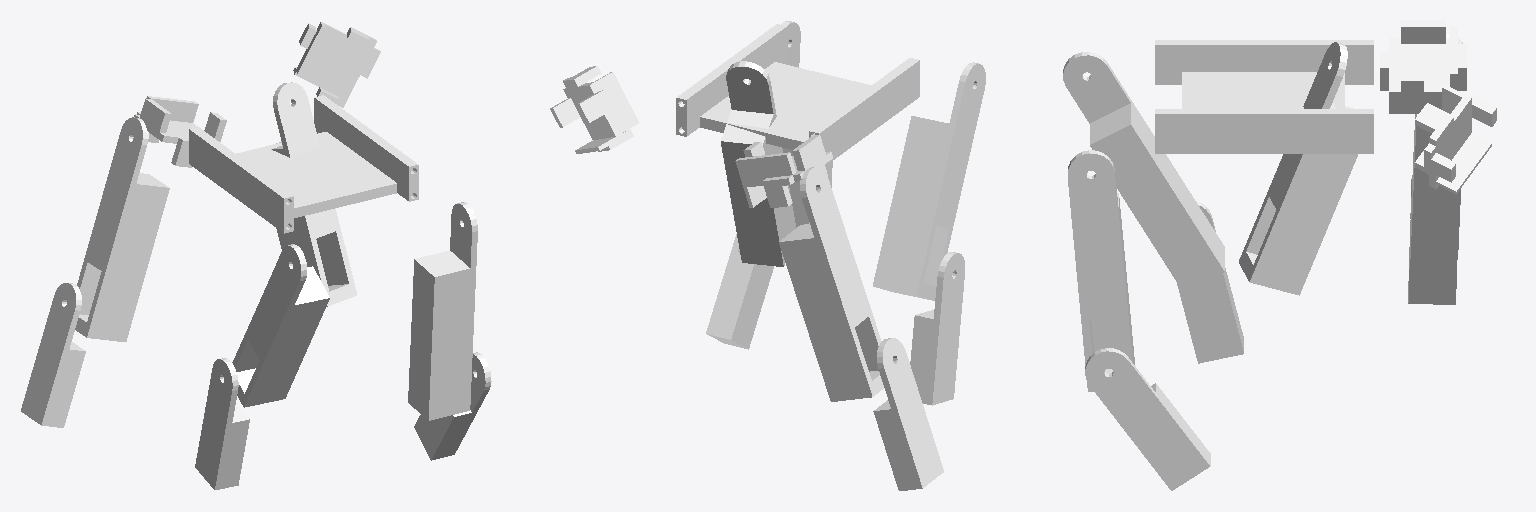
robot.urdf — chyPapa2.SLDASM:
<?xml version="1.0" encoding="utf-8"?>
<!-- This URDF was automatically created by SolidWorks to URDF Exporter! Originally created by [author] ([email redacted]) 
     Commit Version: 1.4.4-24-g24328f6  Build Version: 1.5.7084.36479
     For more information, please see http://wiki.ros.org/sw_urdf_exporter -->
<robot
  name="chyPapa2.SLDASM">
  <link
    name="Link_Body">
    <inertial>
      <origin
        xyz="0.0103110622754226 -0.138333813435703 -0.00633427200512993"
        rpy="0 0 0" />
      <mass
        value="0.140972114032924" />
      <inertia
        ixx="0.000172858210708355"
        ixy="-9.20364029032113E-08"
        ixz="-1.60625193941856E-06"
        iyy="0.000238776777529016"
        iyz="-1.46977761927673E-07"
        izz="0.000396584509314804" />
    </inertial>
    <visual>
      <origin
        xyz="0 0 0"
        rpy="0 0 0" />
      <geometry>
        <mesh
          filename="package://chyPapa2.SLDASM/meshes/Link_Body.STL" />
      </geometry>
      <material
        name="">
        <color
          rgba="1 1 1 1" />
      </material>
    </visual>
    <collision>
      <origin
        xyz="0 0 0"
        rpy="0 0 0" />
      <geometry>
        <mesh
          filename="package://chyPapa2.SLDASM/meshes/Link_Body.STL" />
      </geometry>
    </collision>
  </link>
  <link
    name="Link_Shoulder">
    <inertial>
      <origin
        xyz="-0.0274247665425242 -0.00816227985534069 0.0125762828596184"
        rpy="0 0 0" />
      <mass
        value="0.0207864363086098" />
      <inertia
        ixx="6.27146358863494E-06"
        ixy="3.91384833154347E-08"
        ixz="-1.74281855565268E-07"
        iyy="6.22523670847366E-06"
        iyz="-2.24464499683624E-07"
        izz="1.02843302670418E-05" />
    </inertial>
    <visual>
      <origin
        xyz="0 0 0"
        rpy="0 0 0" />
      <geometry>
        <mesh
          filename="package://chyPapa2.SLDASM/meshes/Link_Shoulder.STL" />
      </geometry>
      <material
        name="">
        <color
          rgba="1 1 1 1" />
      </material>
    </visual>
    <collision>
      <origin
        xyz="0 0 0"
        rpy="0 0 0" />
      <geometry>
        <mesh
          filename="package://chyPapa2.SLDASM/meshes/Link_Shoulder.STL" />
      </geometry>
    </collision>
  </link>
  <joint
    name="Joint_Shoulder_Body"
    type="continuous">
    <origin
      xyz="-0.024262490025846 -0.210974353298413 0.0042831711339558"
      rpy="-3.10892168622311 0 1.57079633049684" />
    <parent
      link="Link_Body" />
    <child
      link="Link_Shoulder" />
    <axis
      xyz="1 0 0" />
    <limit
      lower="-0.5"
      upper="1.5"
      effort="0"
      velocity="0" />
    <safety_controller
      k_velocity="0" />
  </joint>
  <link
    name="Link_Arm">
    <inertial>
      <origin
        xyz="-0.0788155464015626 -1.28029117704709E-05 -0.0177604221817193"
        rpy="0 0 0" />
      <mass
        value="0.108265195096751" />
      <inertia
        ixx="2.14056382437846E-05"
        ixy="-5.7086172295258E-08"
        ixz="8.85505589058663E-06"
        iyy="0.00016624910449164"
        iyz="-3.05257037533732E-09"
        izz="0.000163044159957564" />
    </inertial>
    <visual>
      <origin
        xyz="0 0 0"
        rpy="0 0 0" />
      <geometry>
        <mesh
          filename="package://chyPapa2.SLDASM/meshes/Link_Arm.STL" />
      </geometry>
      <material
        name="">
        <color
          rgba="1 1 1 1" />
      </material>
    </visual>
    <collision>
      <origin
        xyz="0 0 0"
        rpy="0 0 0" />
      <geometry>
        <mesh
          filename="package://chyPapa2.SLDASM/meshes/Link_Arm.STL" />
      </geometry>
    </collision>
  </link>
  <joint
    name="Joint_Arm_Shoulder"
    type="continuous">
    <origin
      xyz="-0.0390000494633864 -0.00503732057810486 0.0250000008133683"
      rpy="1.5707963267949 1.0538900560339 -3.14159265056749" />
    <parent
      link="Link_Shoulder" />
    <child
      link="Link_Arm" />
    <axis
      xyz="0 0 1" />
    <limit
      lower="-1.5"
      upper="1.5"
      effort="0"
      velocity="0" />
    <safety_controller
      k_velocity="0" />
  </joint>
  <link
    name="Link_Hand">
    <inertial>
      <origin
        xyz="0.0526382833749994 -8.32667268468867E-17 0.0110737358724704"
        rpy="0 0 0" />
      <mass
        value="0.0420735853495989" />
      <inertia
        ixx="4.63824751744345E-06"
        ixy="3.35636805349517E-20"
        ixz="1.99944788512828E-06"
        iyy="2.67304876167846E-05"
        iyz="-4.32045451522672E-21"
        izz="2.83575795096437E-05" />
    </inertial>
    <visual>
      <origin
        xyz="0 0 0"
        rpy="0 0 0" />
      <geometry>
        <mesh
          filename="package://chyPapa2.SLDASM/meshes/Link_Hand.STL" />
      </geometry>
      <material
        name="">
        <color
          rgba="1 1 1 1" />
      </material>
    </visual>
    <collision>
      <origin
        xyz="0 0 0"
        rpy="0 0 0" />
      <geometry>
        <mesh
          filename="package://chyPapa2.SLDASM/meshes/Link_Hand.STL" />
      </geometry>
    </collision>
  </link>
  <joint
    name="Joint_Hand_Arm"
    type="continuous">
    <origin
      xyz="-0.13 0 -0.0319840197875134"
      rpy="3.14159265358979 0 2.85540791089326" />
    <parent
      link="Link_Arm" />
    <child
      link="Link_Hand" />
    <axis
      xyz="0 0 1" />
    <limit
      lower="-1.5"
      upper="1.5"
      effort="0"
      velocity="0" />
    <safety_controller
      k_velocity="0" />
  </joint>
  <link
    name="Link_Shoulder_lf">
    <inertial>
      <origin
        xyz="0.0297444649113038 -0.0103661778761098 0.0113168142585662"
        rpy="0 0 0" />
      <mass
        value="0.024381282517391" />
      <inertia
        ixx="6.47635682118491E-06"
        ixy="-1.7820992837587E-07"
        ixz="5.84885132806065E-07"
        iyy="6.88016866534127E-06"
        iyz="-8.48693360788404E-07"
        izz="1.06252181988618E-05" />
    </inertial>
    <visual>
      <origin
        xyz="0 0 0"
        rpy="0 0 0" />
      <geometry>
        <mesh
          filename="package://chyPapa2.SLDASM/meshes/Link_Shoulder_lf.STL" />
      </geometry>
      <material
        name="">
        <color
          rgba="1 1 1 1" />
      </material>
    </visual>
    <collision>
      <origin
        xyz="0 0 0"
        rpy="0 0 0" />
      <geometry>
        <mesh
          filename="package://chyPapa2.SLDASM/meshes/Link_Shoulder_lf.STL" />
      </geometry>
    </collision>
  </link>
  <joint
    name="Joint_Shoulder_Body_lf"
    type="continuous">
    <origin
      xyz="0.0447375099741542 -0.211105312695026 0.00428317113395733"
      rpy="3.13570327871611 0 -1.5707963267949" />
    <parent
      link="Link_Body" />
    <child
      link="Link_Shoulder_lf" />
    <axis
      xyz="1 0 0" />
    <limit
      lower="-0.5"
      upper="1.5"
      effort="0"
      velocity="0" />
    <safety_controller
      k_velocity="0" />
  </joint>
  <link
    name="Link_Arm_lf">
    <inertial>
      <origin
        xyz="-0.0788155464015625 -1.28029117703321E-05 -0.0187810440052838"
        rpy="0 0 0" />
      <mass
        value="0.108265195096751" />
      <inertia
        ixx="2.14056382437845E-05"
        ixy="-5.70861722950212E-08"
        ixz="8.8550558905866E-06"
        iyy="0.00016624910449164"
        iyz="-3.05257037534878E-09"
        izz="0.000163044159957564" />
    </inertial>
    <visual>
      <origin
        xyz="0 0 0"
        rpy="0 0 0" />
      <geometry>
        <mesh
          filename="package://chyPapa2.SLDASM/meshes/Link_Arm_lf.STL" />
      </geometry>
      <material
        name="">
        <color
          rgba="1 1 1 1" />
      </material>
    </visual>
    <collision>
      <origin
        xyz="0 0 0"
        rpy="0 0 0" />
      <geometry>
        <mesh
          filename="package://chyPapa2.SLDASM/meshes/Link_Arm_lf.STL" />
      </geometry>
    </collision>
  </link>
  <joint
    name="Joint_Arm_Shoulder_lf"
    type="continuous">
    <origin
      xyz="0.0359999999999995 -0.00431088193830897 0.0249509551891668"
      rpy="-1.43396185933822 1.48434116768327 0.136329722136433" />
    <parent
      link="Link_Shoulder_lf" />
    <child
      link="Link_Arm_lf" />
    <axis
      xyz="0 0 1" />
    <limit
      lower="-1.5"
      upper="1.5"
      effort="0"
      velocity="0" />
    <safety_controller
      k_velocity="0" />
  </joint>
  <link
    name="Link_Hand_lf">
    <inertial>
      <origin
        xyz="0.0526382833749993 5.55111512312578E-17 0.0117025057426635"
        rpy="0 0 0" />
      <mass
        value="0.0420735853495988" />
      <inertia
        ixx="4.63824751744343E-06"
        ixy="-1.77876918923403E-20"
        ixz="1.99944788512829E-06"
        iyy="2.67304876167845E-05"
        iyz="2.01825548494638E-21"
        izz="2.83575795096436E-05" />
    </inertial>
    <visual>
      <origin
        xyz="0 0 0"
        rpy="0 0 0" />
      <geometry>
        <mesh
          filename="package://chyPapa2.SLDASM/meshes/Link_Hand_lf.STL" />
      </geometry>
      <material
        name="">
        <color
          rgba="1 1 1 1" />
      </material>
    </visual>
    <collision>
      <origin
        xyz="0 0 0"
        rpy="0 0 0" />
      <geometry>
        <mesh
          filename="package://chyPapa2.SLDASM/meshes/Link_Hand_lf.STL" />
      </geometry>
    </collision>
  </link>
  <joint
    name="Joint_Hand_Arm_lf"
    type="continuous">
    <origin
      xyz="-0.13 0 -0.0323758717408849"
      rpy="3.14159265358979 0 2.61425434993677" />
    <parent
      link="Link_Arm_lf" />
    <child
      link="Link_Hand_lf" />
    <axis
      xyz="0 0 1" />
    <limit
      lower="-1.5"
      upper="1.5"
      effort="0"
      velocity="0" />
    <safety_controller
      k_velocity="0" />
  </joint>
  <link
    name="Link_Shoulder_re">
    <inertial>
      <origin
        xyz="-0.0252555849108747 -0.0102321643187586 0.0114381270782385"
        rpy="0 0 0" />
      <mass
        value="0.024381282517391" />
      <inertia
        ixx="6.47635682902833E-06"
        ixy="-1.71308517453457E-07"
        ixz="5.86943623501043E-07"
        iyy="6.86069697624158E-06"
        iyz="-8.04349947667647E-07"
        izz="1.06446898801181E-05" />
    </inertial>
    <visual>
      <origin
        xyz="0 0 0"
        rpy="0 0 0" />
      <geometry>
        <mesh
          filename="package://chyPapa2.SLDASM/meshes/Link_Shoulder_re.STL" />
      </geometry>
      <material
        name="">
        <color
          rgba="1 1 1 1" />
      </material>
    </visual>
    <collision>
      <origin
        xyz="0 0 0"
        rpy="0 0 0" />
      <geometry>
        <mesh
          filename="package://chyPapa2.SLDASM/meshes/Link_Shoulder_re.STL" />
      </geometry>
    </collision>
  </link>
  <joint
    name="Joint_Shoulder_Body_re"
    type="continuous">
    <origin
      xyz="-0.0241891406163888 -0.0101052626950253 0.00455177305558941"
      rpy="-2.80972051739857 0 1.57079634147904" />
    <parent
      link="Link_Body" />
    <child
      link="Link_Shoulder_re" />
    <axis
      xyz="1 0 0" />
    <limit
      lower="-0.5"
      upper="1.5"
      effort="0"
      velocity="0" />
    <safety_controller
      k_velocity="0" />
  </joint>
  <link
    name="Link_Arm_re">
    <inertial>
      <origin
        xyz="-0.0788155464015625 -1.28029117703772E-05 -0.0227977426419542"
        rpy="0 0 0" />
      <mass
        value="0.108265195096751" />
      <inertia
        ixx="2.14056382437846E-05"
        ixy="-5.70861722950884E-08"
        ixz="8.85505589058663E-06"
        iyy="0.00016624910449164"
        iyz="-3.05257037534552E-09"
        izz="0.000163044159957564" />
    </inertial>
    <visual>
      <origin
        xyz="0 0 0"
        rpy="0 0 0" />
      <geometry>
        <mesh
          filename="package://chyPapa2.SLDASM/meshes/Link_Arm_re.STL" />
      </geometry>
      <material
        name="">
        <color
          rgba="1 1 1 1" />
      </material>
    </visual>
    <collision>
      <origin
        xyz="0 0 0"
        rpy="0 0 0" />
      <geometry>
        <mesh
          filename="package://chyPapa2.SLDASM/meshes/Link_Arm_re.STL" />
      </geometry>
    </collision>
  </link>
  <joint
    name="Joint_Arm_Shoulder_re"
    type="continuous">
    <origin
      xyz="-0.0160000499402824 0 0.0250000000382197"
      rpy="-1.57079632679486 1.53888883138228 0" />
    <parent
      link="Link_Shoulder_re" />
    <child
      link="Link_Arm_re" />
    <axis
      xyz="0 0 1" />
    <limit
      lower="-1.5"
      upper="1.5"
      effort="0"
      velocity="0" />
    <safety_controller
      k_velocity="0" />
  </joint>
  <link
    name="Link_Hand_re">
    <inertial>
      <origin
        xyz="0.0526382833749993 -6.93889390390723E-17 0.00897198634715779"
        rpy="0 0 0" />
      <mass
        value="0.0420735853495988" />
      <inertia
        ixx="4.63824751744344E-06"
        ixy="2.62646388097837E-20"
        ixz="1.99944788512829E-06"
        iyy="2.67304876167845E-05"
        iyz="-2.63892706720639E-21"
        izz="2.83575795096436E-05" />
    </inertial>
    <visual>
      <origin
        xyz="0 0 0"
        rpy="0 0 0" />
      <geometry>
        <mesh
          filename="package://chyPapa2.SLDASM/meshes/Link_Hand_re.STL" />
      </geometry>
      <material
        name="">
        <color
          rgba="1 1 1 1" />
      </material>
    </visual>
    <collision>
      <origin
        xyz="0 0 0"
        rpy="0 0 0" />
      <geometry>
        <mesh
          filename="package://chyPapa2.SLDASM/meshes/Link_Hand_re.STL" />
      </geometry>
    </collision>
  </link>
  <joint
    name="Joint_Hand_Arm_re"
    type="continuous">
    <origin
      xyz="-0.13 0 -0.039123"
      rpy="-3.1416 0 -3.1308" />
    <parent
      link="Link_Arm_re" />
    <child
      link="Link_Hand_re" />
    <axis
      xyz="0 0 1" />
    <limit
      lower="-1.5"
      upper="1.5"
      effort="0"
      velocity="0" />
    <safety_controller
      k_velocity="0" />
  </joint>
  <link
    name="Link_Shoulder_le">
    <inertial>
      <origin
        xyz="0.00857528317052155 -0.0271622797724547 -0.0124237177123403"
        rpy="0 0 0" />
      <mass
        value="0.0207864363086098" />
      <inertia
        ixx="6.27146359614103E-06"
        ixy="3.91384878570596E-08"
        ixz="-1.74281939934301E-07"
        iyy="6.22523670823709E-06"
        iyz="-2.24464498340633E-07"
        izz="1.02843302597723E-05" />
    </inertial>
    <visual>
      <origin
        xyz="0 0 0"
        rpy="0 0 0" />
      <geometry>
        <mesh
          filename="package://chyPapa2.SLDASM/meshes/Link_Shoulder_le.STL" />
      </geometry>
      <material
        name="">
        <color
          rgba="1 1 1 1" />
      </material>
    </visual>
    <collision>
      <origin
        xyz="0 0 0"
        rpy="0 0 0" />
      <geometry>
        <mesh
          filename="package://chyPapa2.SLDASM/meshes/Link_Shoulder_le.STL" />
      </geometry>
    </collision>
  </link>
  <joint
    name="Joint_Shoulder_Body_le"
    type="continuous">
    <origin
      xyz="0.044811 -0.010105 0.0045518"
      rpy="0 0.54918 0" />
    <parent
      link="Link_Body" />
    <child
      link="Link_Shoulder_le" />
    <axis
      xyz="0 1 0" />
    <limit
      lower="-0.5"
      upper="1.5"
      effort="0"
      velocity="0" />
    <safety_controller
      k_velocity="0" />
  </joint>
  <link
    name="Link_Arm_le">
    <inertial>
      <origin
        xyz="-0.0788155464015627 -1.2802911770679E-05 -0.0226668332453416"
        rpy="0 0 0" />
      <mass
        value="0.108265195096751" />
      <inertia
        ixx="2.14056382437846E-05"
        ixy="-5.70861722950649E-08"
        ixz="8.85505589058664E-06"
        iyy="0.00016624910449164"
        iyz="-3.05257037535268E-09"
        izz="0.000163044159957564" />
    </inertial>
    <visual>
      <origin
        xyz="0 0 0"
        rpy="0 0 0" />
      <geometry>
        <mesh
          filename="package://chyPapa2.SLDASM/meshes/Link_Arm_le.STL" />
      </geometry>
      <material
        name="">
        <color
          rgba="1 1 1 1" />
      </material>
    </visual>
    <collision>
      <origin
        xyz="0 0 0"
        rpy="0 0 0" />
      <geometry>
        <mesh
          filename="package://chyPapa2.SLDASM/meshes/Link_Arm_le.STL" />
      </geometry>
    </collision>
  </link>
  <joint
    name="Joint_Arm_Shoulder_le"
    type="continuous">
    <origin
      xyz="0 -0.019 -0.025"
      rpy="1.5708 -0.99649 -1.5708" />
    <parent
      link="Link_Shoulder_le" />
    <child
      link="Link_Arm_le" />
    <axis
      xyz="0 0 1" />
    <limit
      lower="-1.5"
      upper="1.5"
      effort="0"
      velocity="0" />
    <safety_controller
      k_velocity="0" />
  </joint>
  <link
    name="Link_Hand_le">
    <inertial>
      <origin
        xyz="-0.1386199740416 -0.0368913399675162 -0.0659376278148356"
        rpy="0 0 0" />
      <mass
        value="0.0420735853495988" />
      <inertia
        ixx="2.03729176062735E-05"
        ixy="-9.36362986235101E-06"
        ixz="3.81570371346277E-06"
        iyy="1.29395682177776E-05"
        iyz="5.63592668366043E-06"
        izz="2.64138288198205E-05" />
    </inertial>
    <visual>
      <origin
        xyz="0 0 0"
        rpy="0 0 0" />
      <geometry>
        <mesh
          filename="package://chyPapa2.SLDASM/meshes/Link_Hand_le.STL" />
      </geometry>
      <material
        name="">
        <color
          rgba="1 1 1 1" />
      </material>
    </visual>
    <collision>
      <origin
        xyz="0 0 0"
        rpy="0 0 0" />
      <geometry>
        <mesh
          filename="package://chyPapa2.SLDASM/meshes/Link_Hand_le.STL" />
      </geometry>
    </collision>
  </link>
  <joint
    name="Joint_Hand_Arm_le"
    type="revolute">
    <origin
      xyz="-0.15 0.015 -0.0048691"
      rpy="-3.1416 0 1.5708" />
    <parent
      link="Link_Arm_le" />
    <child
      link="Link_Hand_le" />
    <axis
      xyz="0 0 1" />
    <limit
      lower="-1.5"
      upper="1.5"
      effort="0"
      velocity="0" />
    <safety_controller
      k_velocity="0" />
  </joint>
</robot>

--- Facts derived from the render (not from the file) ---
The picture shows the robot from 3 angles, left to right: view 1: azimuth 30°, elevation 25°; view 2: azimuth 150°, elevation 25°; view 3: azimuth 270°, elevation 25°; orthographic projection.
Model chyPapa2.SLDASM with 13 links and 12 joints (1 revolute, 11 continuous), rooted at Link_Body, posed every joint at zero.
Links seen in each view (by area): view 1: Link_Body, Link_Arm_re, Link_Arm_lf, Link_Arm, Link_Arm_le, Link_Hand_le, Link_Hand, Link_Shoulder_le, Link_Shoulder_re, Link_Hand_lf; view 2: Link_Body, Link_Arm_re, Link_Arm, Link_Arm_le, Link_Hand_le, Link_Hand, Link_Shoulder_le, Link_Hand_lf, Link_Shoulder_re, Link_Arm_lf; view 3: Link_Body, Link_Arm, Link_Arm_le, Link_Arm_lf, Link_Hand_lf, Link_Shoulder_re, Link_Shoulder_le, Link_Arm_re, Link_Hand, Link_Hand_le.
Boxes of the visible links, x1=… form: Link_Body: x1=189, y1=95, x2=418, y2=233; Link_Arm_re: x1=75, y1=117, x2=169, y2=341; Link_Arm_lf: x1=408, y1=202, x2=477, y2=420; Link_Arm: x1=232, y1=244, x2=329, y2=407; Link_Arm_le: x1=271, y1=82, x2=356, y2=306; Link_Hand_le: x1=21, y1=283, x2=85, y2=427; Link_Hand: x1=195, y1=358, x2=249, y2=489; Link_Shoulder_le: x1=293, y1=22, x2=380, y2=107; Link_Shoulder_re: x1=134, y1=96, x2=226, y2=167; Link_Hand_lf: x1=414, y1=352, x2=491, y2=460; Link_Body: x1=676, y1=24, x2=919, y2=165; Link_Arm_re: x1=779, y1=167, x2=883, y2=401; Link_Arm: x1=873, y1=62, x2=985, y2=300; Link_Arm_le: x1=721, y1=61, x2=795, y2=266; Link_Hand_le: x1=873, y1=338, x2=943, y2=490; Link_Hand: x1=910, y1=252, x2=964, y2=405; Link_Shoulder_le: x1=550, y1=66, x2=638, y2=153; Link_Hand_lf: x1=706, y1=234, x2=773, y2=349; Link_Shoulder_re: x1=735, y1=135, x2=832, y2=207; Link_Arm_lf: x1=781, y1=21, x2=832, y2=227; Link_Body: x1=1155, y1=40, x2=1373, y2=153; Link_Arm: x1=1063, y1=52, x2=1224, y2=292; Link_Arm_le: x1=1239, y1=42, x2=1357, y2=295; Link_Arm_lf: x1=1068, y1=150, x2=1134, y2=391; Link_Hand_lf: x1=1085, y1=348, x2=1210, y2=490; Link_Shoulder_re: x1=1380, y1=20, x2=1466, y2=113; Link_Shoulder_le: x1=1415, y1=84, x2=1496, y2=193; Link_Arm_re: x1=1410, y1=34, x2=1463, y2=259; Link_Hand: x1=1177, y1=200, x2=1243, y2=363; Link_Hand_le: x1=1408, y1=179, x2=1456, y2=304.
Bounding box of the posed robot: 0.2966 × 0.2735 × 0.2778 m (x, y, z).
Meshes: 13 distinct files referenced, 10 mesh visuals loaded (10 binary STL); not drawn: 3 (reference not matched to a file when rendering).
